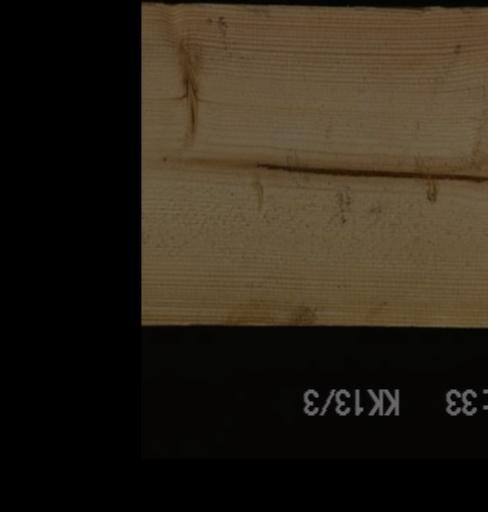small_knot: (153, 149, 174, 168)
